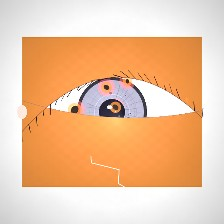foreign_body_visible: (99, 94, 132, 120)
